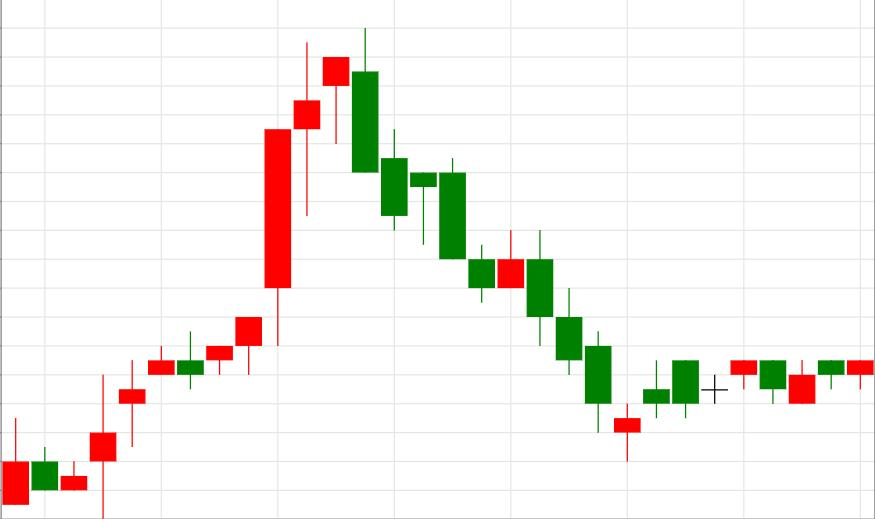hanging_man_fall: (60, 42, 350, 519)
